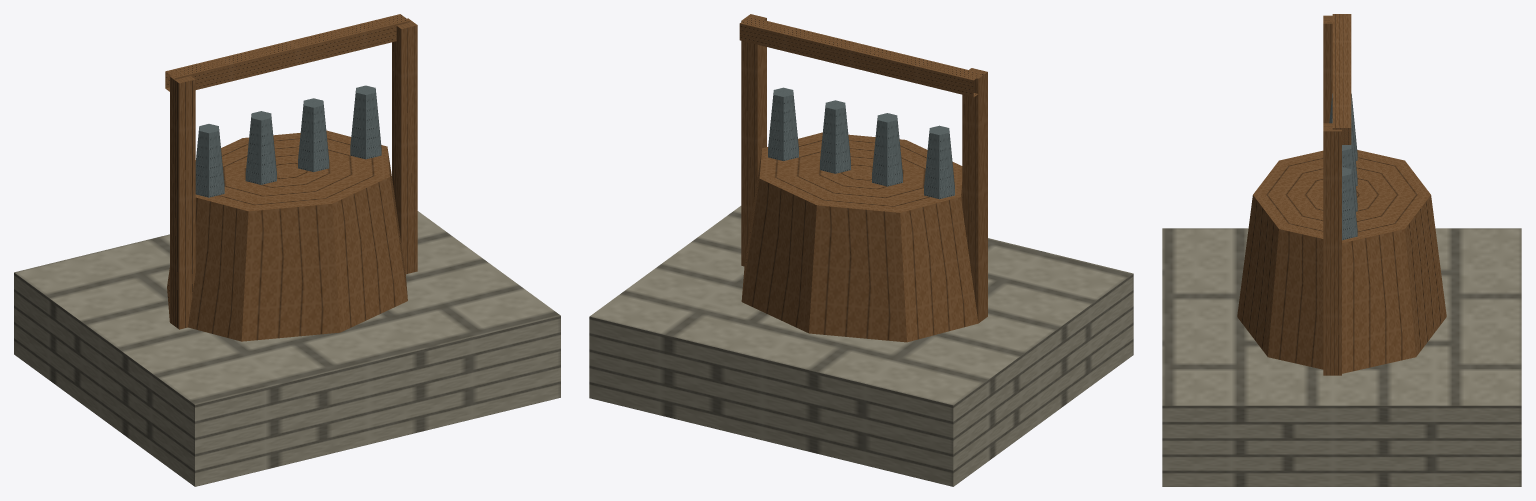
Rendered from military-MUSIC-1-lod2.glb.
The picture shows the model from 3 angles, left to right: view 1: azimuth 30°, elevation 25°; view 2: azimuth 150°, elevation 25°; view 3: azimuth 270°, elevation 25°; orthographic projection.
Size of the model in its own units: 0.56 by 0.4825 by 0.48.
Materials: 1 (1 with a texture image).
